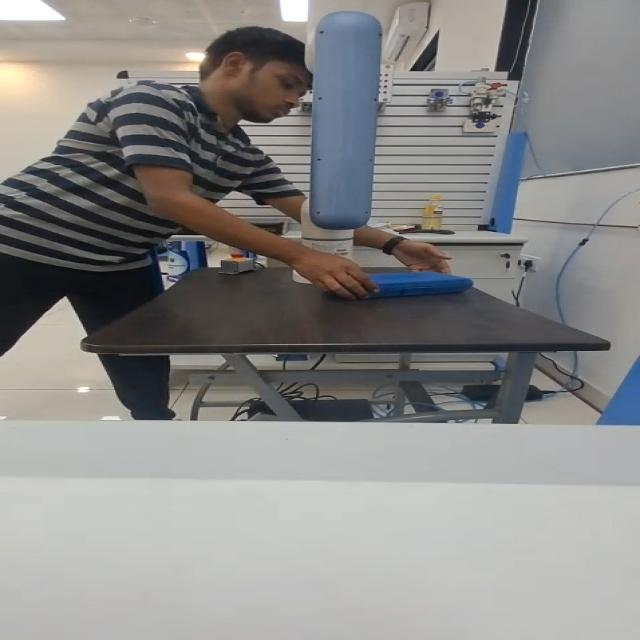top-surface: (370, 272, 457, 281)
